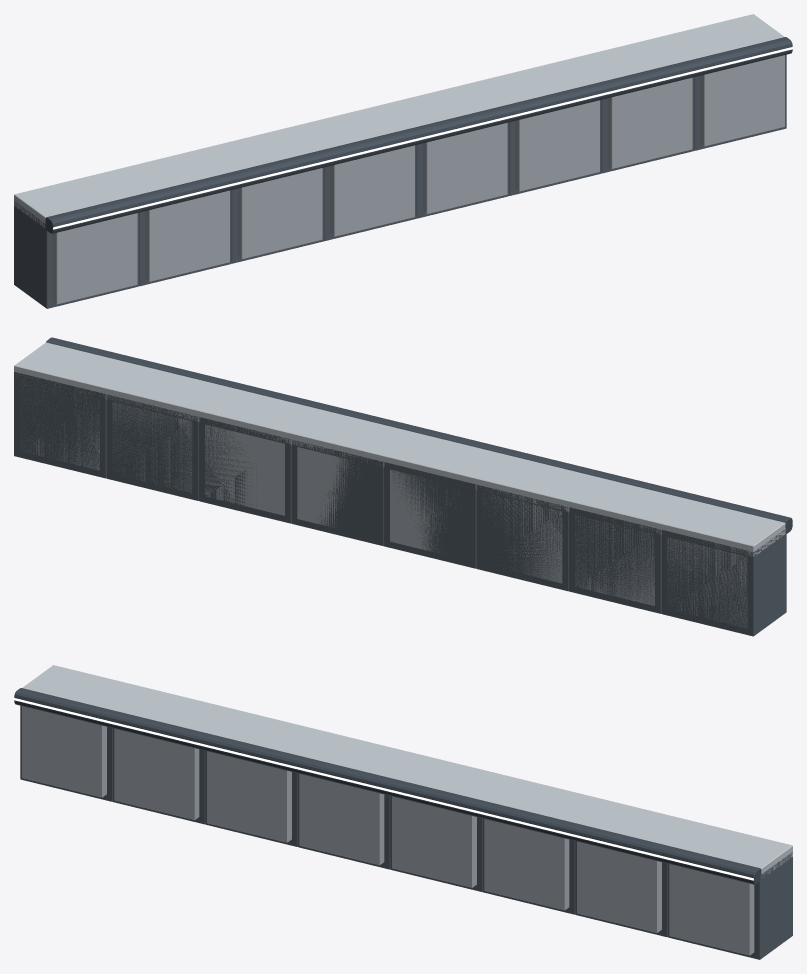
Rendered from Terrain_TopRun8.gltf.
3 views of the same model, one above another, from view 1: azimuth 30°, elevation 25°; view 2: azimuth 150°, elevation 25°; view 3: azimuth 330°, elevation 25° (orthographic).
Visible parts, largest first — view 1: Terrain_TopRun8_baked; view 2: Terrain_TopRun8_baked; view 3: Terrain_TopRun8_baked.
Part boxes in pixels (box(x1,y1,x2,y2)): Terrain_TopRun8_baked: box(14, 14, 792, 308); Terrain_TopRun8_baked: box(14, 337, 792, 636); Terrain_TopRun8_baked: box(14, 665, 792, 959).
Bounding box in the file's own units: 8 × 0.9495 × 0.74.
